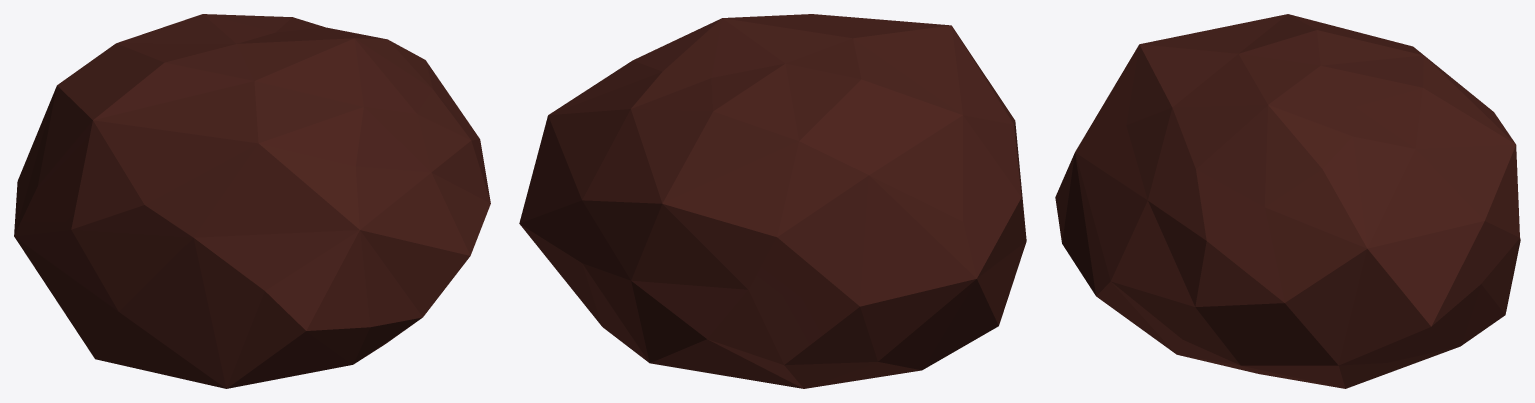
Rendered from goldenOre2-0.fbx.
The picture shows the model from 3 angles, left to right: view 1: azimuth 30°, elevation 25°; view 2: azimuth 150°, elevation 25°; view 3: azimuth 270°, elevation 25°; orthographic projection. The views are drawn at different scales.
Parts seen in each view (by area): view 1: Cube.001; view 2: Cube.001; view 3: Cube.001.
Part boxes in pixels (x1,y1,x2,y2): Cube.001: (14,14,490,388); Cube.001: (519,14,1026,388); Cube.001: (1055,14,1520,388).
Size of the model in its own units: 211 by 139 by 204.
